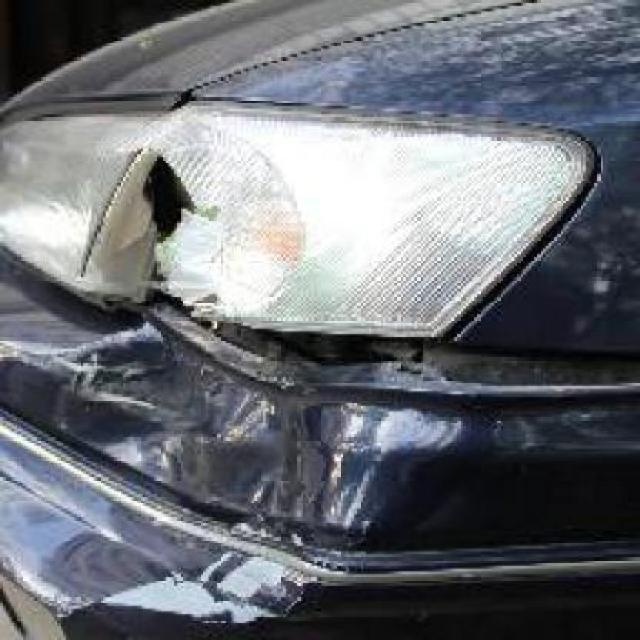damaged-head-light: (4, 106, 562, 337)
dent-or-scratch: (100, 346, 391, 563)
